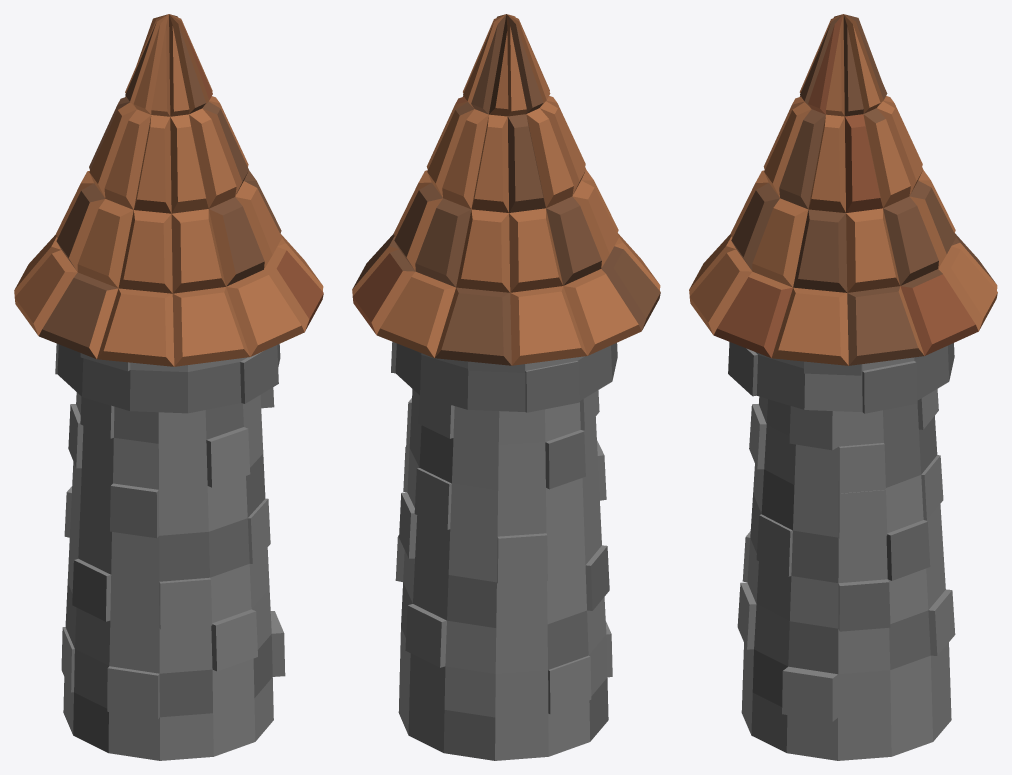
File: Tower.glb
3 renders of one model, left to right at view 1: azimuth 30°, elevation 25°; view 2: azimuth 150°, elevation 25°; view 3: azimuth 270°, elevation 25°, orthographic.
Visible parts, largest first — view 1: Base, Roof, Tower; view 2: Base, Roof, Tower; view 3: Base, Roof, Tower.
Boxes of the visible parts, x1,y1,x2,y2 form: Base: (61, 387, 285, 760); Roof: (14, 14, 323, 366); Tower: (55, 343, 280, 413); Base: (395, 389, 612, 760); Roof: (352, 14, 660, 365); Tower: (391, 341, 617, 412); Base: (737, 389, 955, 760); Roof: (689, 14, 997, 365); Tower: (728, 342, 954, 413).
Bounding box in the file's own units: 5.26 × 13.2 × 5.26.
